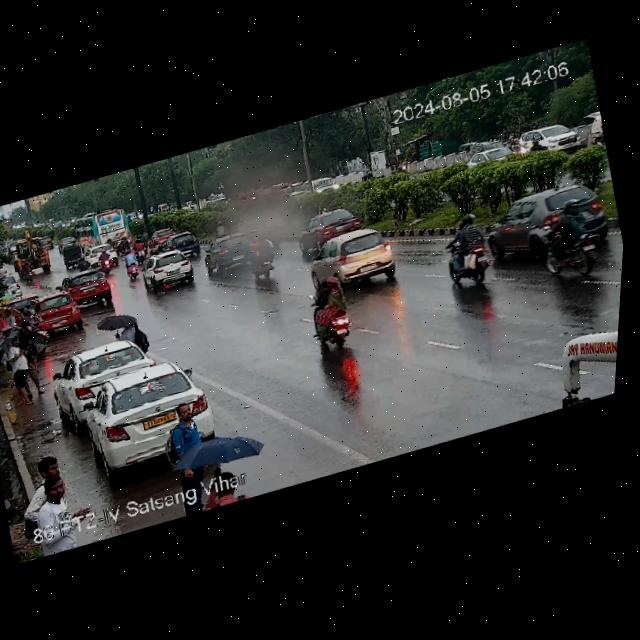bus: (71, 203, 132, 253)
car: (61, 348, 223, 480), (481, 176, 615, 262), (47, 333, 156, 415), (305, 219, 405, 298), (197, 224, 275, 278), (512, 115, 587, 161), (296, 202, 367, 249), (141, 246, 204, 295), (30, 288, 87, 336), (61, 265, 115, 309), (164, 229, 200, 257), (59, 239, 89, 269), (0, 271, 26, 304), (149, 225, 179, 246), (56, 234, 82, 251)
motorcycle: (532, 198, 609, 285), (299, 266, 360, 353), (435, 215, 500, 292), (242, 231, 282, 280), (93, 242, 120, 276), (119, 245, 141, 279), (131, 236, 148, 265), (115, 234, 134, 257)
person: (157, 402, 223, 518), (24, 469, 89, 556), (187, 434, 255, 512), (21, 451, 84, 535), (101, 303, 153, 364), (0, 332, 41, 407), (0, 303, 18, 335)
truck: (6, 227, 59, 280)
